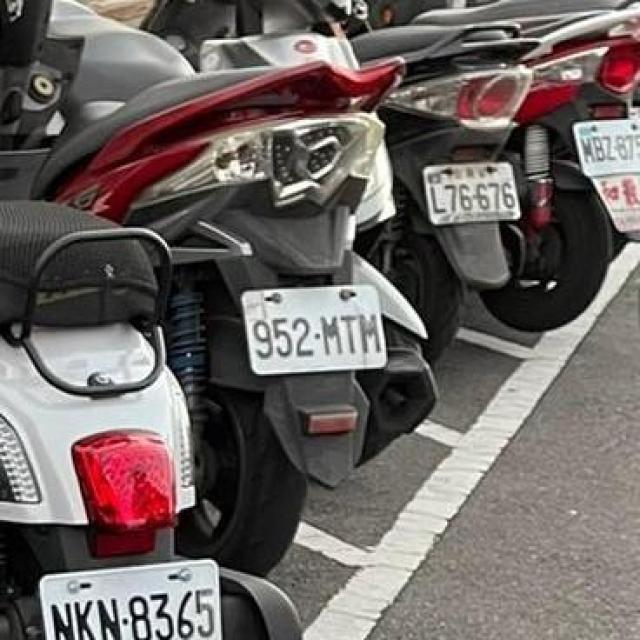W: (28, 544, 233, 640), (235, 274, 398, 382), (414, 150, 529, 233), (567, 111, 640, 181)
